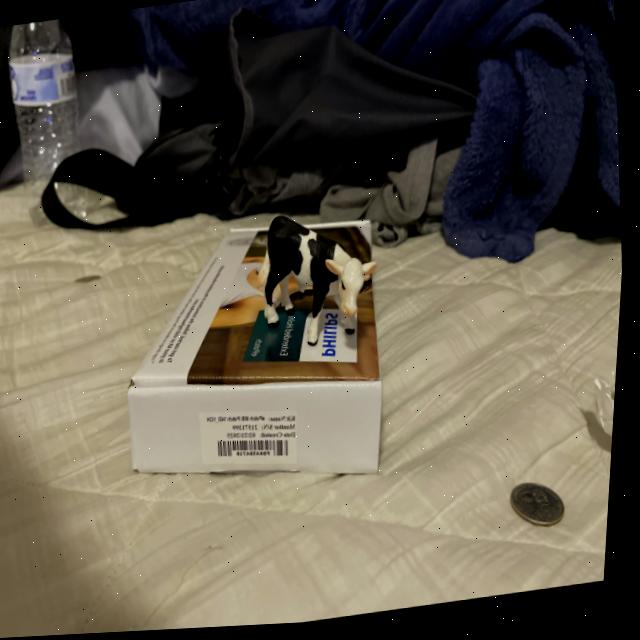cow: (237, 215, 388, 359), (311, 314, 323, 347)
